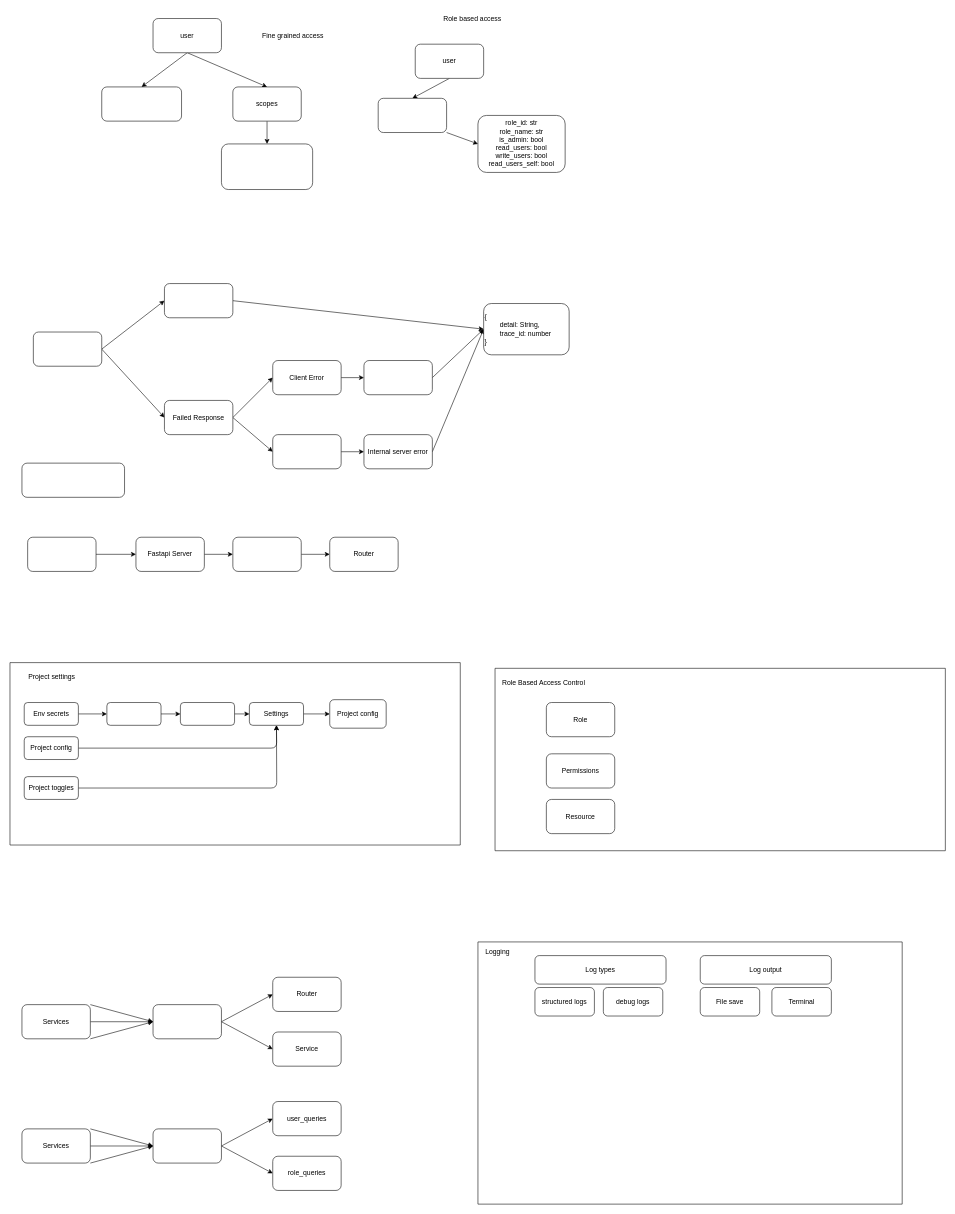
This 955x1214 diagram has some shape labels left out. Each missing label, with the centre of its shape:
"CORS" belongs at point (266, 554).
"Detailed message or single line message" belongs at point (397, 377).
"EnvSettings" belongs at point (207, 713).
"isadmin: bool read_users: bool write_users: bool read_users_self: bool" belongs at point (267, 166).
"Pydantic" belongs at point (133, 713).
"Queries" belongs at point (186, 1145).
"Request" belongs at point (61, 554).
"Request response life cycle" belongs at point (73, 480).
"Response Model" belongs at point (67, 348).
"Server errors" belongs at point (306, 451).
"Service name" belongs at point (186, 1021).
"Success Response" belongs at point (198, 300).
"username: str password: hashed profile: str role: str" belongs at point (141, 103).
"username: str password: str profile: str role_id: str" belongs at point (412, 115).
